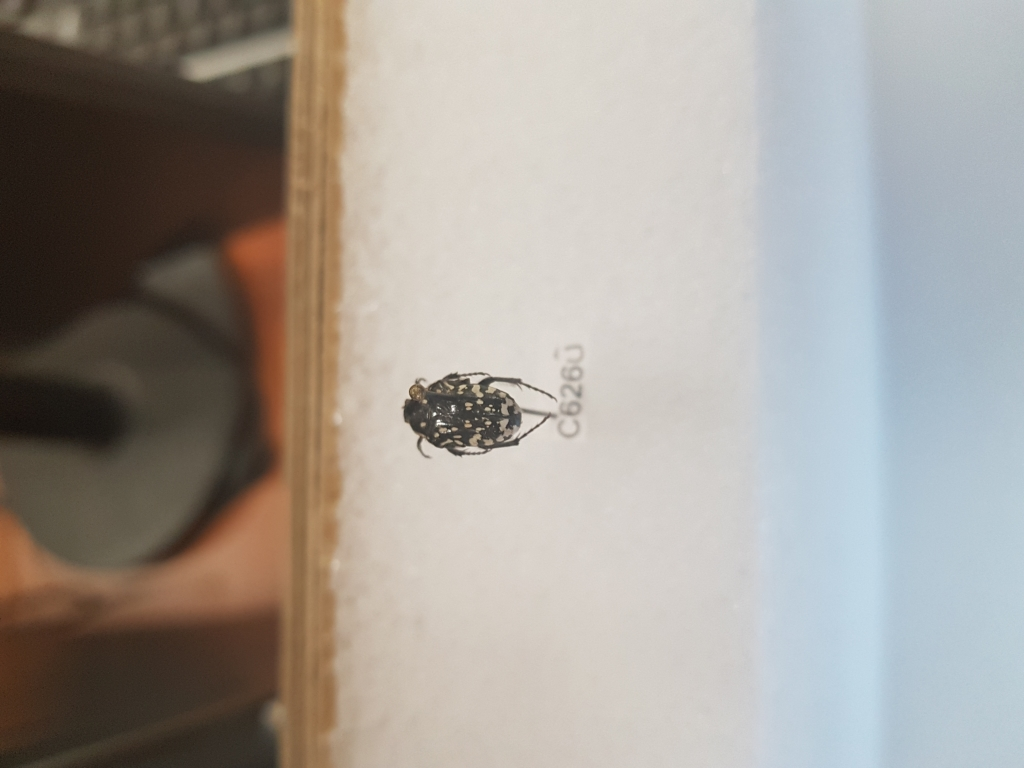Oxythyrea_funesta: (401, 364, 561, 465)
